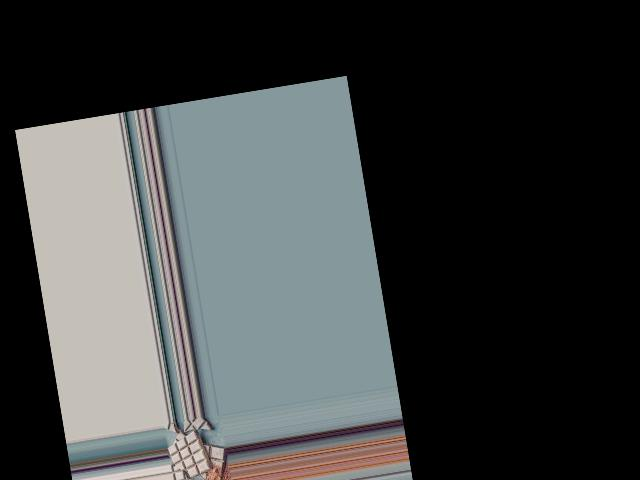chocolate: (165, 427, 212, 480)
